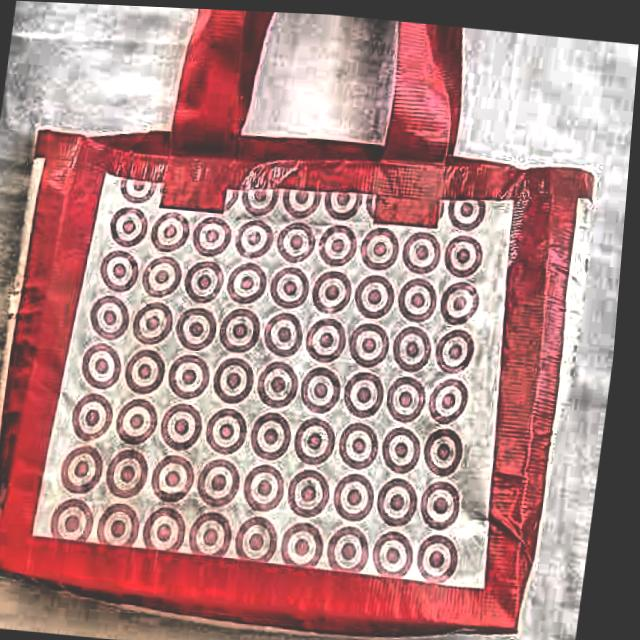Plastic: (0, 84, 625, 640)
